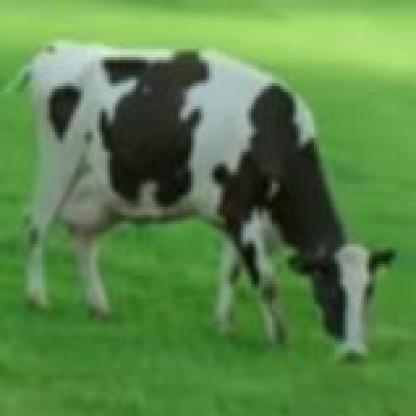cow: (26, 43, 395, 364)
